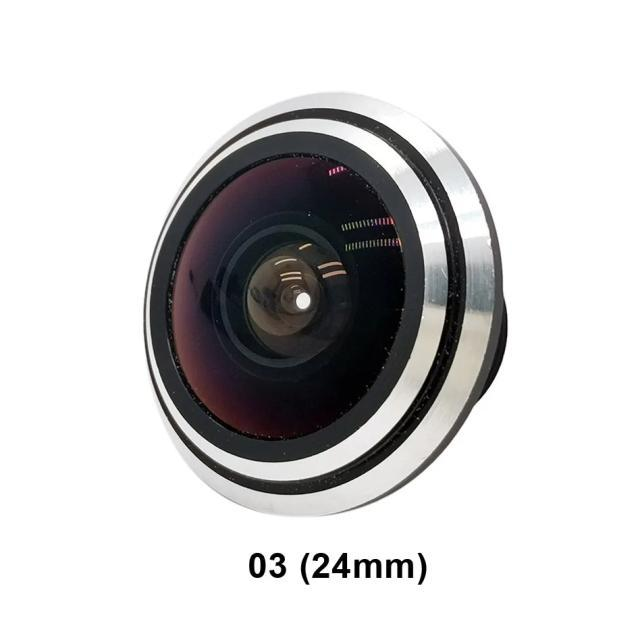hidden camera: (138, 153, 446, 462)
